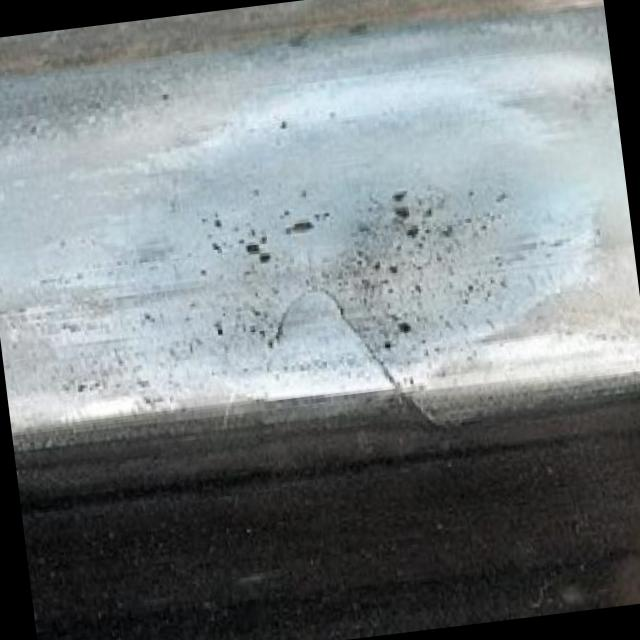non-defective: (29, 0, 640, 534)
